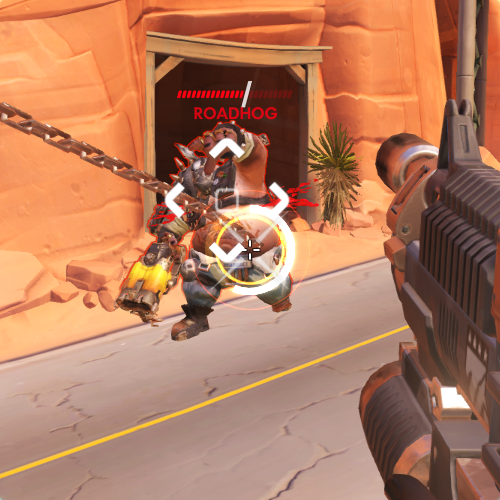hpbar: (176, 89, 293, 99)
